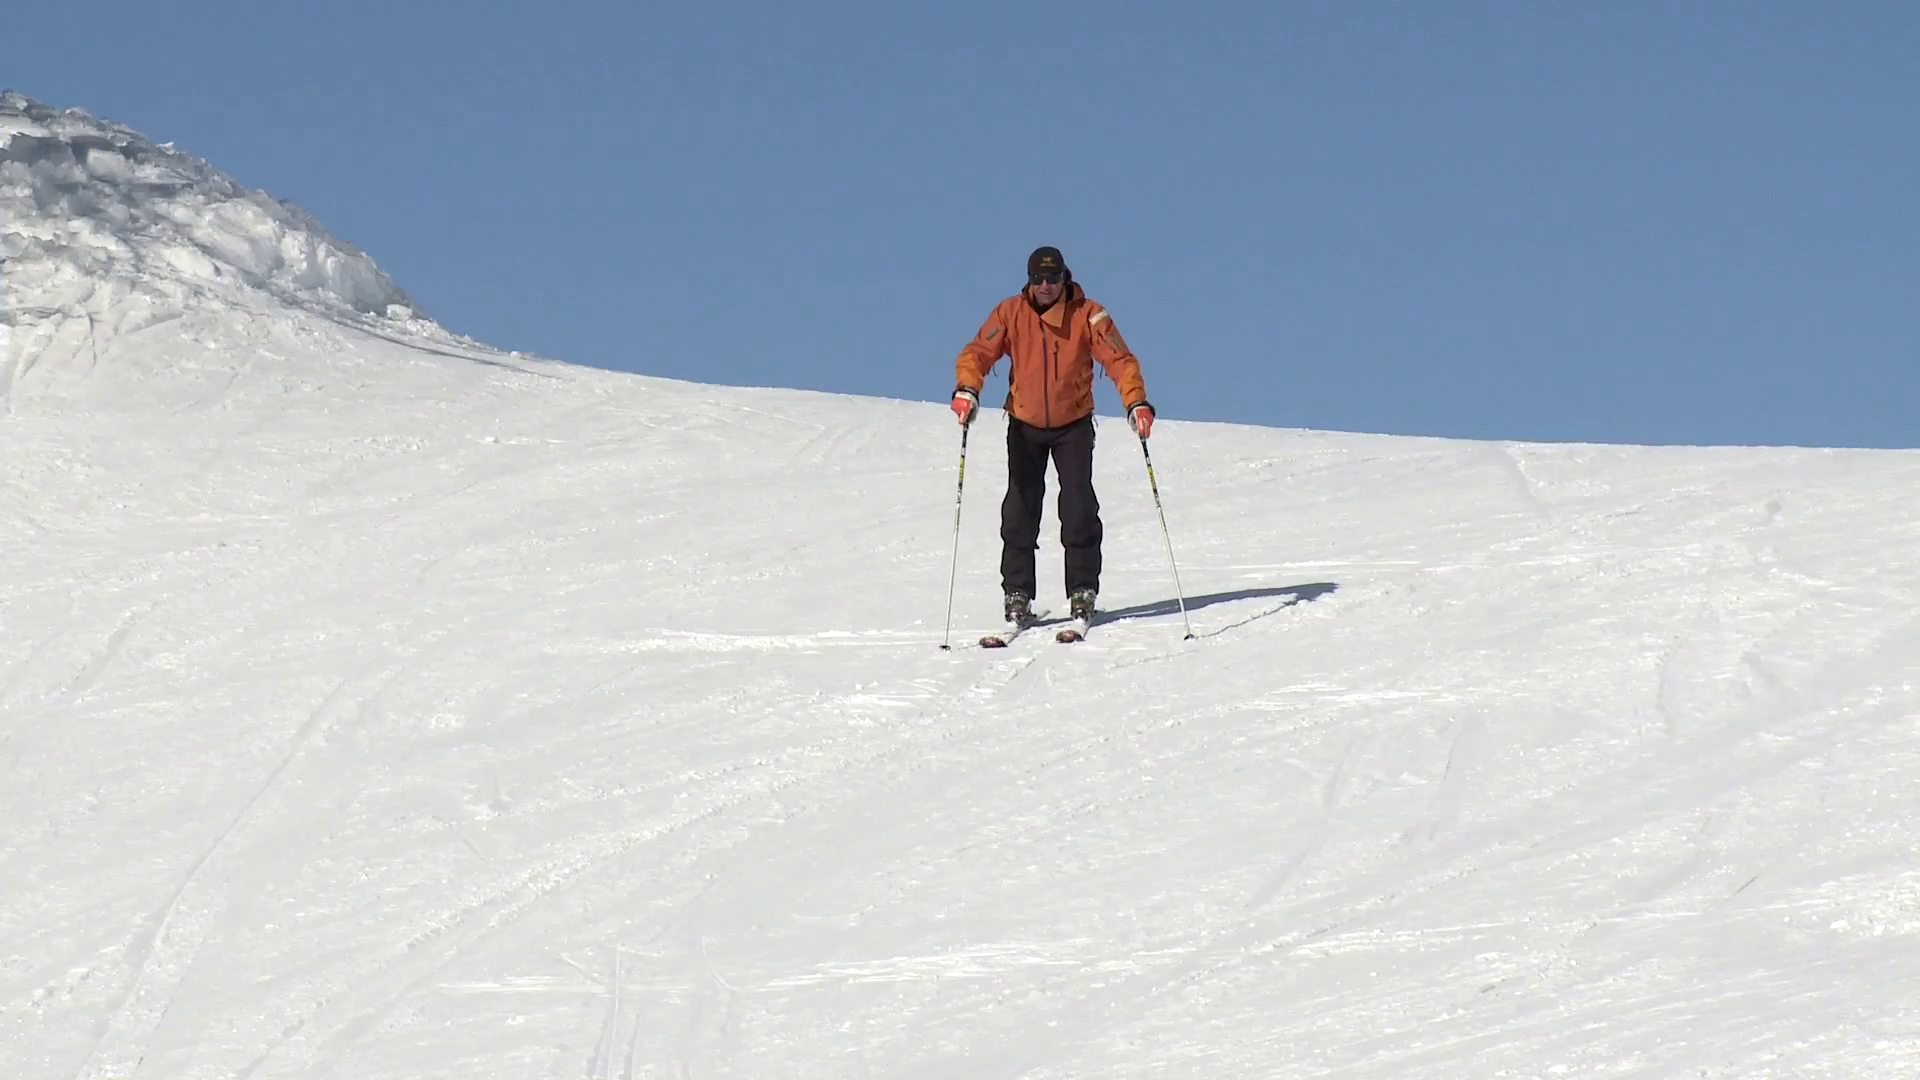person: (951, 247, 1156, 650)
